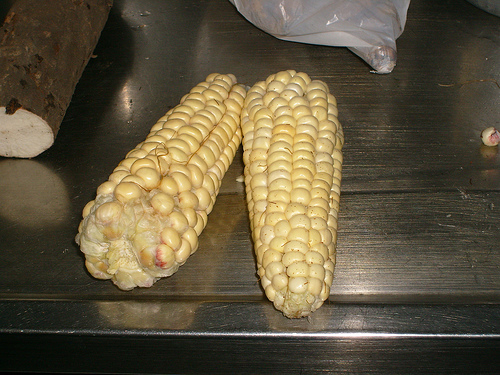corn: (75, 71, 249, 290), (239, 70, 344, 320), (290, 214, 309, 228), (311, 105, 326, 119)
